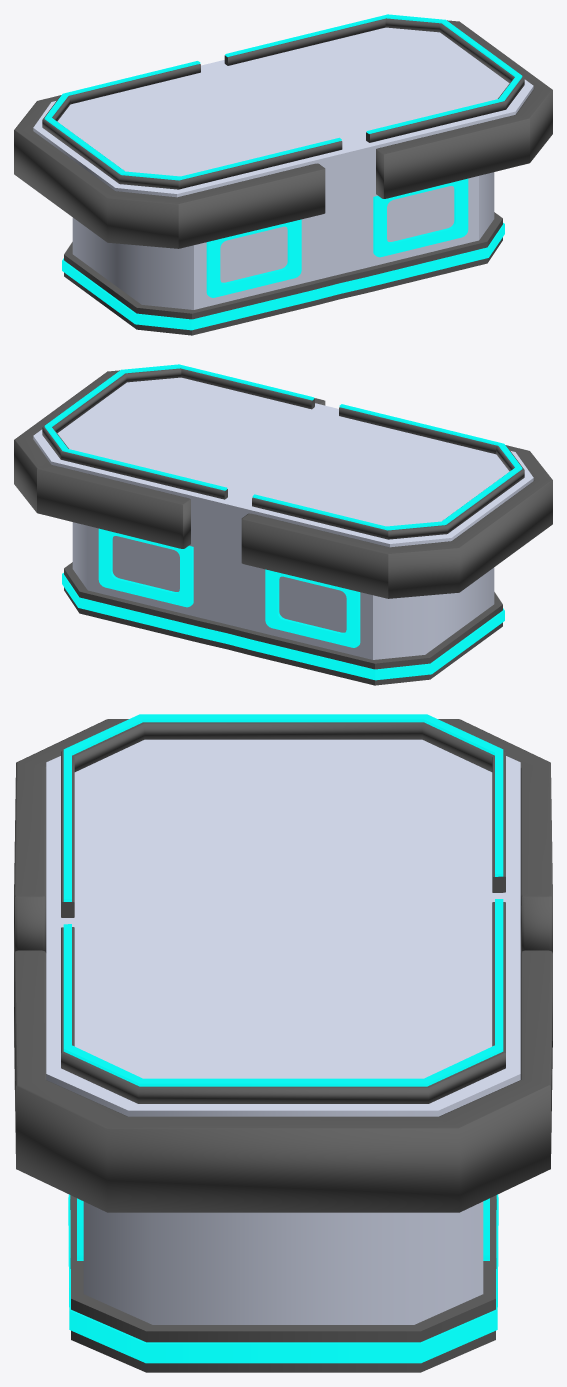
File: table.glb
3 renders of one model, top to bottom at view 1: azimuth 30°, elevation 25°; view 2: azimuth 150°, elevation 25°; view 3: azimuth 270°, elevation 25°, orthographic. The views are drawn at different scales.
Parts seen in each view (by area): view 1: table.002, table, table.003, table.004, table.001, light2, light; view 2: table.002, table, table.003, table.004, table.001, light2, light; view 3: table.002, table, table.003, table.004, light, light2, table.001.
Part boxes in pixels (x1,y1,x2,y2): table.002: (33,27,533,208); table: (14,20,552,248); table.003: (64,172,502,335); table.004: (42,18,524,189); table.001: (206,178,468,297); light2: (62,223,504,330); light: (44,14,522,180); table.002: (33,377,533,558); table: (14,370,552,598); table.003: (64,522,502,685); table.004: (42,368,524,539); table.001: (98,528,360,647); light2: (62,573,504,680); light: (44,364,522,530); table.002: (46,739,520,1116); table: (14,719,552,1212); table.003: (70,1195,496,1372); table.004: (61,722,505,1103); light: (63,714,503,1086); light2: (68,1194,498,1363); table.001: (77,1198,489,1260).
Bounding box in the file's own units: 4.92 × 1.71 × 2.73.
